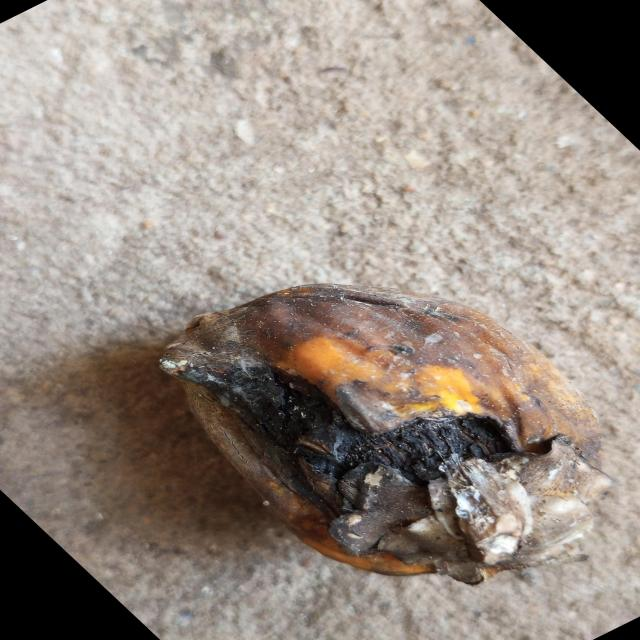damaged: (160, 285, 611, 585)
